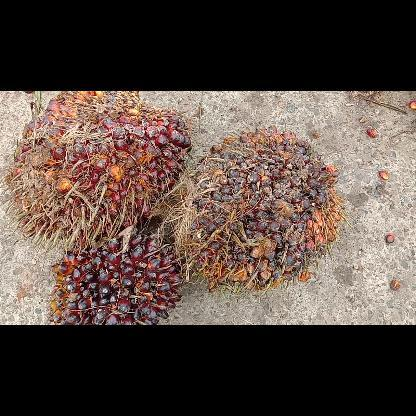Kurang masak: (182, 125, 340, 289), (51, 230, 184, 324)
TBS masak: (10, 91, 190, 247)
